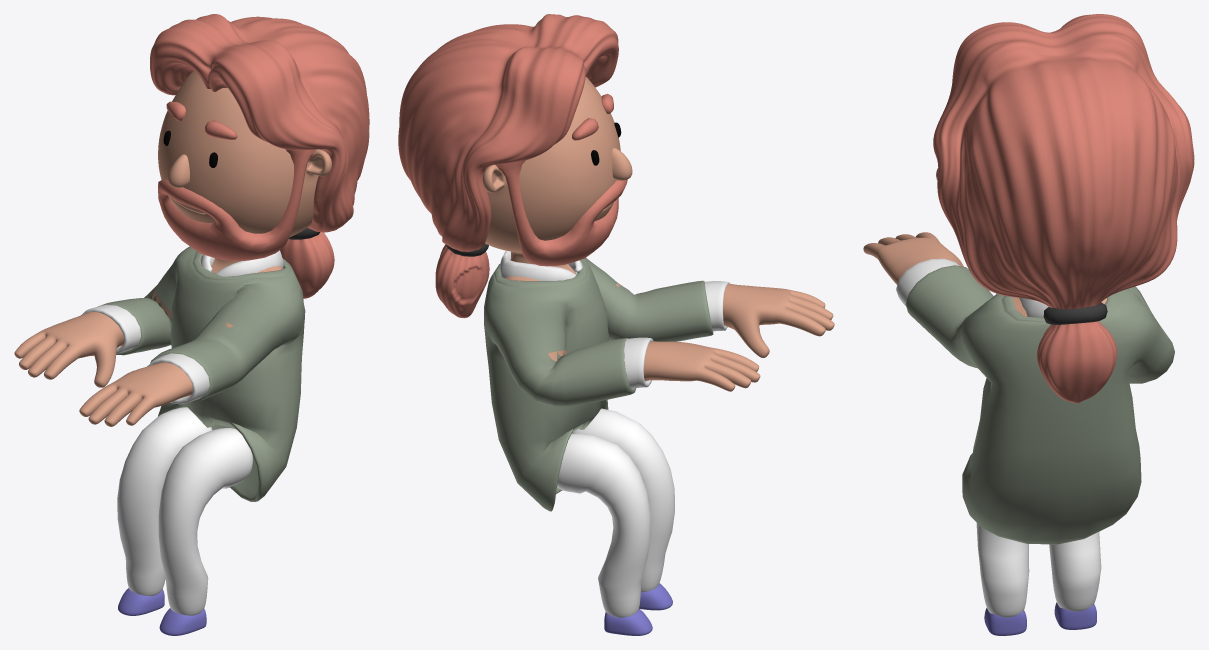
Rendered from ingenieur.gltf.
3 views of the same model, side by side, from view 1: azimuth 30°, elevation 25°; view 2: azimuth 150°, elevation 25°; view 3: azimuth 270°, elevation 25° (orthographic). The views are drawn at different scales.
Visible parts, largest first — view 1: Jumper, Hair_4, body.002, Cube.036, Cube.037, Beard_4, Cube.039, Cube.038, Eyebrow.002, nose.002; view 2: Hair_4, Jumper, body.002, Cube.037, Cube.036, Beard_4, Cube.038, Cube.039; view 3: Hair_4, Jumper, Cube.036, Cube.037, body.002, Cube.039, Cube.038.
Part boxes in pixels (x1,y1,x2,y2): Jumper: [81, 246, 305, 501]; Hair_4: [150, 14, 369, 298]; body.002: [14, 70, 331, 426]; Cube.036: [158, 428, 252, 615]; Cube.037: [117, 407, 212, 595]; Beard_4: [158, 149, 316, 260]; Cube.039: [159, 608, 206, 635]; Cube.038: [118, 588, 164, 615]; Eyebrow.002: [166, 101, 237, 139]; nose.002: [167, 154, 189, 187]; Hair_4: [398, 14, 618, 318]; Jumper: [484, 250, 729, 511]; body.002: [482, 77, 834, 391]; Cube.037: [557, 433, 650, 617]; Cube.036: [572, 408, 674, 592]; Beard_4: [495, 160, 627, 266]; Cube.038: [604, 609, 652, 635]; Cube.039: [639, 583, 672, 610]; Hair_4: [933, 14, 1194, 403]; Jumper: [896, 258, 1174, 544]; Cube.036: [976, 523, 1029, 617]; Cube.037: [1049, 532, 1101, 611]; body.002: [863, 168, 1106, 316]; Cube.039: [984, 608, 1026, 635]; Cube.038: [1054, 602, 1096, 629].
Bounding box in the file's own units: 9.81 × 15.25 × 7.17.
